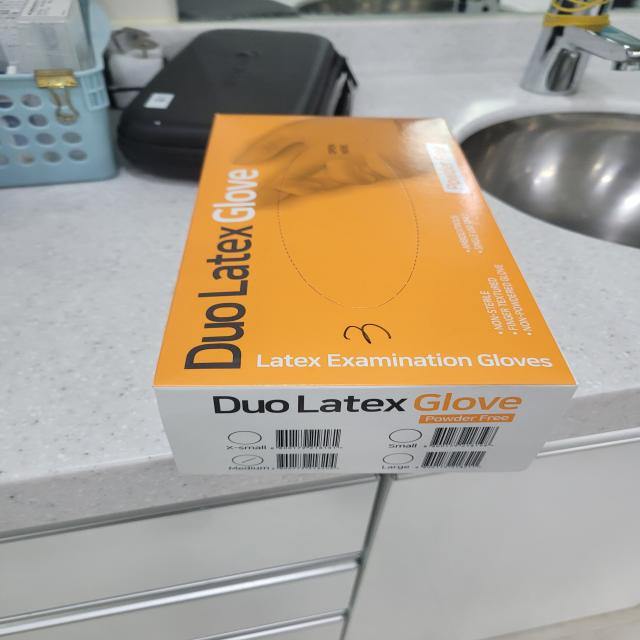glove: (146, 82, 613, 521)
